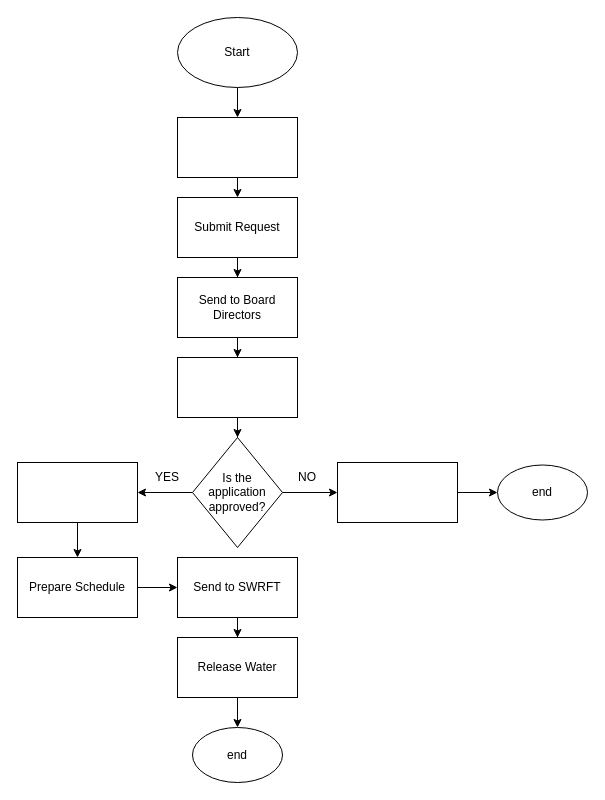
Image size: 605x800. Some labels were removed from this diagram. Here are the shapes that lost their labels. From the top down, the centre of each, then its label:
At pixel 237 147: "Irrigation Association Membership".
At pixel 237 387: "Brand Review".
At pixel 77 492: "Return to Irrigation Association".
At pixel 397 492: "Reject Request".
